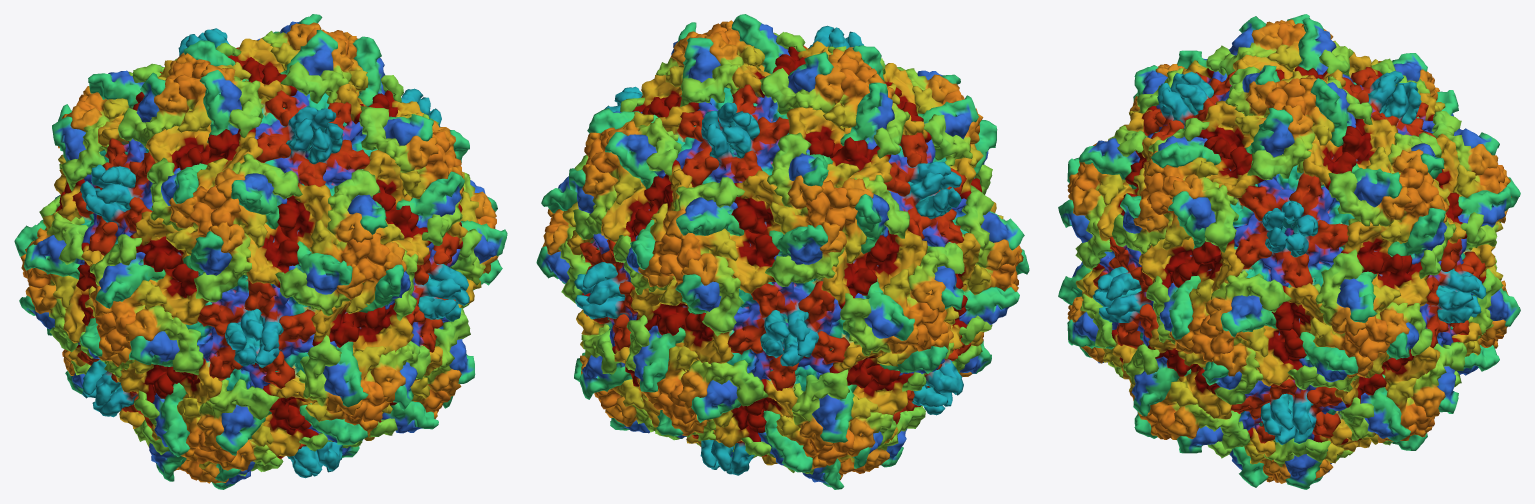
The model's file is 2CAS_cms.glb.
3 views of the same model, side by side, from view 1: azimuth 30°, elevation 25°; view 2: azimuth 150°, elevation 25°; view 3: azimuth 270°, elevation 25° (orthographic). The views are drawn at different scales.
Size of the model in its own units: 280 by 280 by 280.
